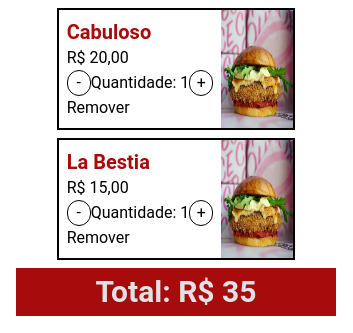
Test: Product cart. › Button sub.
Expected: the text with test id "quantity" below "20" reads "Quantidade: 1", [91,73,189,92]
Click the button with test id "addQuantity" below "20": (201, 83) [189,70,213,96]
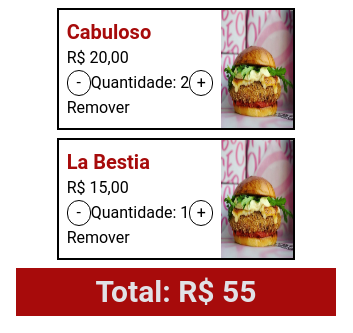
Now the text with test id "quantity" reads "Quantidade: 2", box [91,73,189,92]
Click the button with test id "subQuantity" below "20": (79, 83) [67,70,91,96]
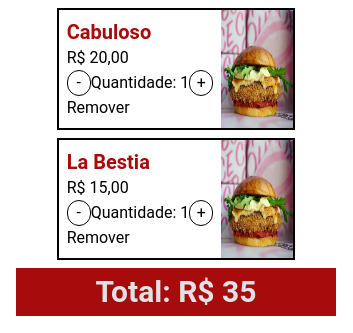
Now the text with test id "quantity" below "20" reads "Quantidade: 1", box [91,73,189,92]
